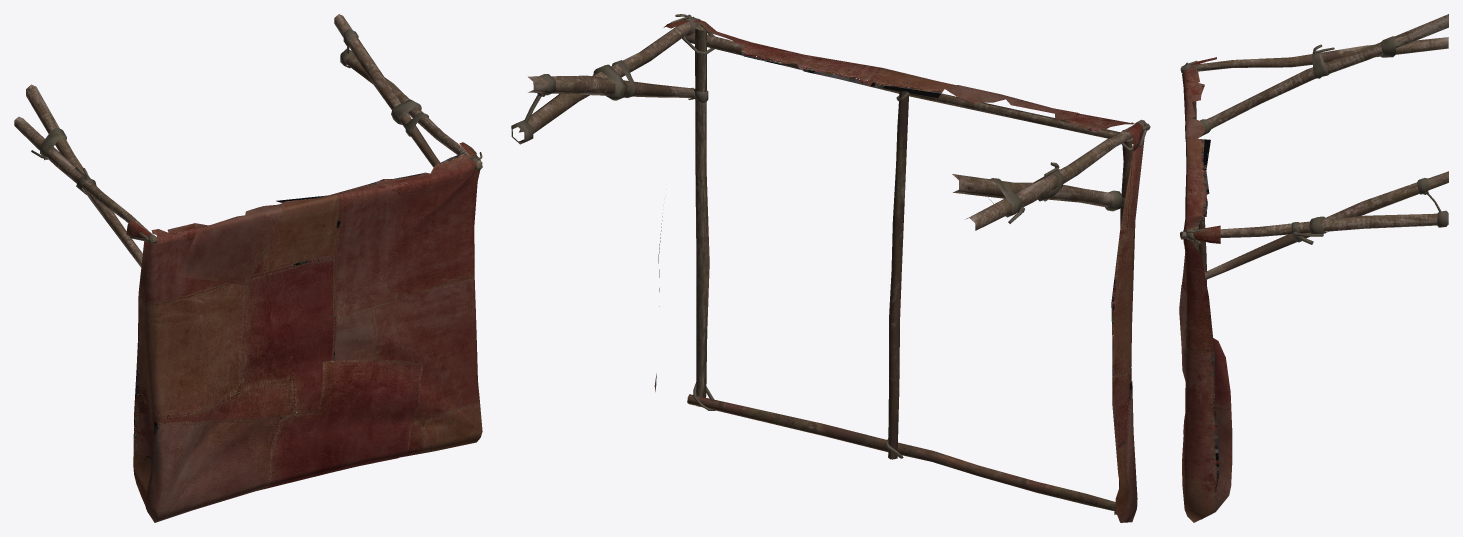
File: GEN_PRO_Modular_Right_Extension_05A_LOD0-transformed.glb
3 renders of one model, left to right at view 1: azimuth 30°, elevation 25°; view 2: azimuth 150°, elevation 25°; view 3: azimuth 270°, elevation 25°, orthographic. The views are drawn at different scales.
Parts seen in each view (by area): view 1: GEN_PRO_Modular_Right_Extension_05A_LOD0; view 2: GEN_PRO_Modular_Right_Extension_05A_LOD0; view 3: GEN_PRO_Modular_Right_Extension_05A_LOD0.
Part boxes in pixels (bbox=[...]): GEN_PRO_Modular_Right_Extension_05A_LOD0: bbox=[14, 14, 482, 522]; GEN_PRO_Modular_Right_Extension_05A_LOD0: bbox=[511, 14, 1150, 522]; GEN_PRO_Modular_Right_Extension_05A_LOD0: bbox=[1179, 14, 1448, 522].
Bounding box in the file's own units: 0.0476 × 0.0451 × 0.0315.
3 materials, 3 textured.
